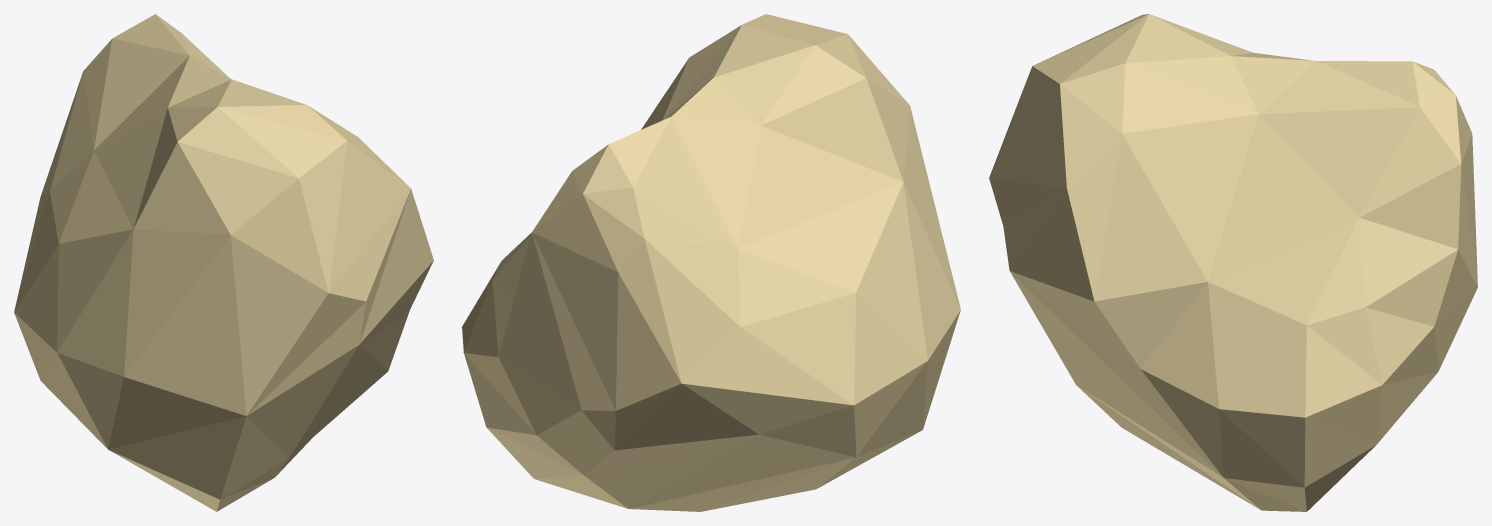
The model's file is Rock (83).fbx.
3 renders of one model, left to right at view 1: azimuth 30°, elevation 25°; view 2: azimuth 150°, elevation 25°; view 3: azimuth 270°, elevation 25°, orthographic. The views are drawn at different scales.
Parts seen in each view (by area): view 1: Asteroid82; view 2: Asteroid82; view 3: Asteroid82.
Part boxes in pixels (box(x1,y1,x2,y2)): Asteroid82: box(14, 14, 433, 511); Asteroid82: box(462, 14, 960, 511); Asteroid82: box(989, 14, 1477, 511).
Bounding box in the file's own units: 75.06 × 77.69 × 79.65.
